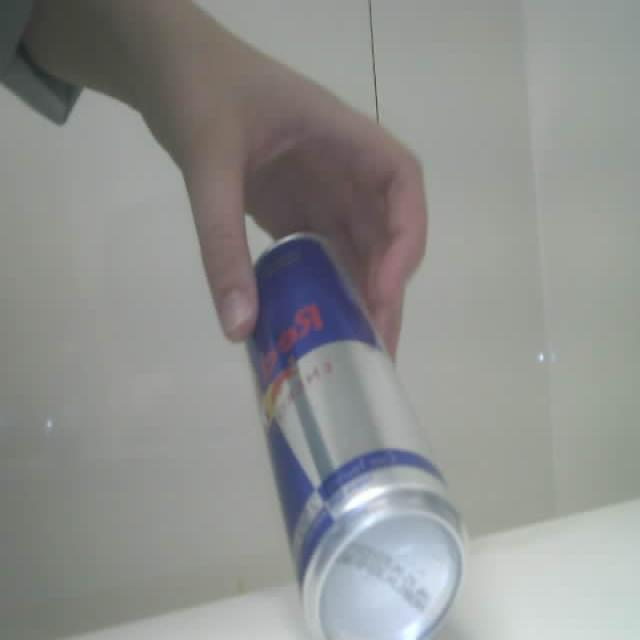redbull can: (249, 235, 464, 639)
